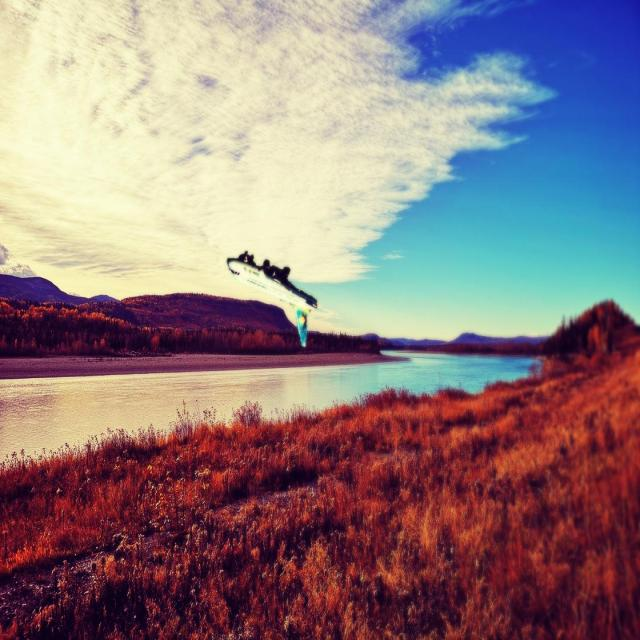airplane: (226, 249, 318, 348)
